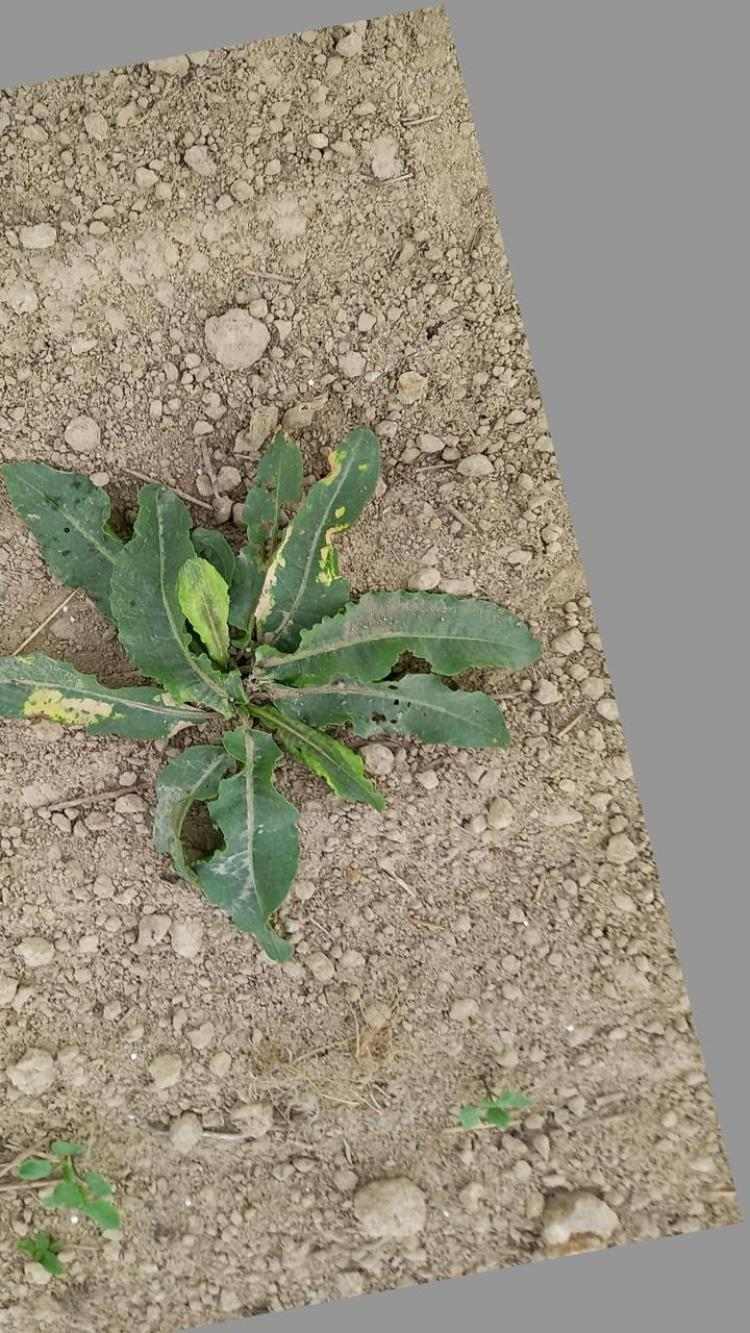zhavel: (0, 423, 550, 966)
